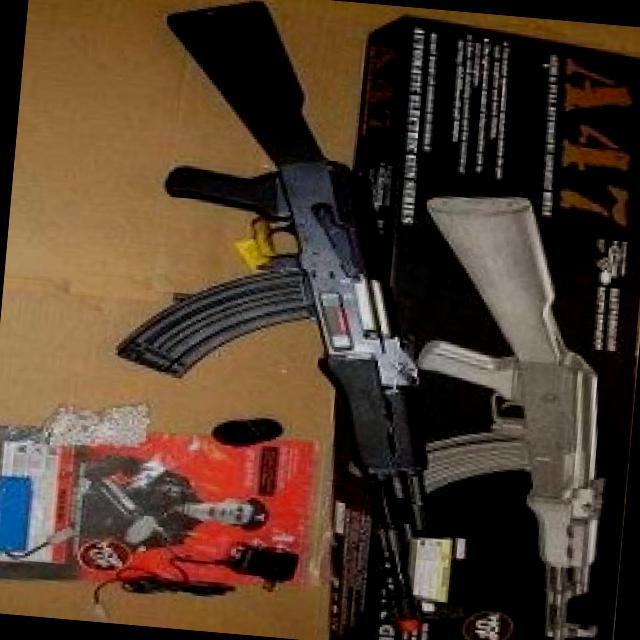long weapon: (143, 1, 485, 640)
